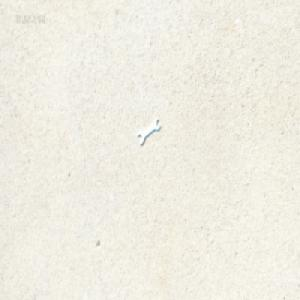Wrench: (136, 115, 159, 144)
